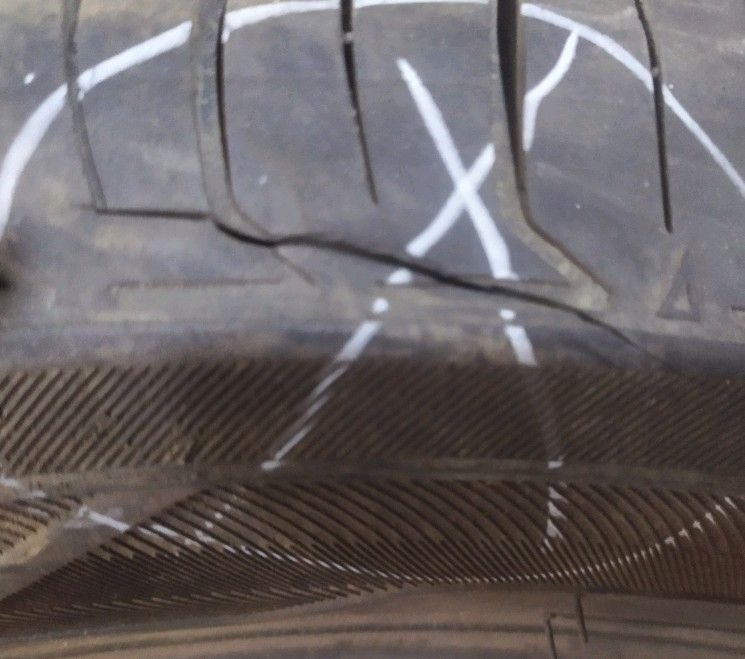cut: (80, 206, 623, 339)
